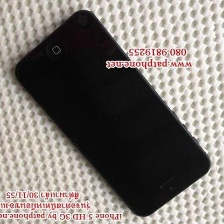phone: (11, 3, 216, 220)
